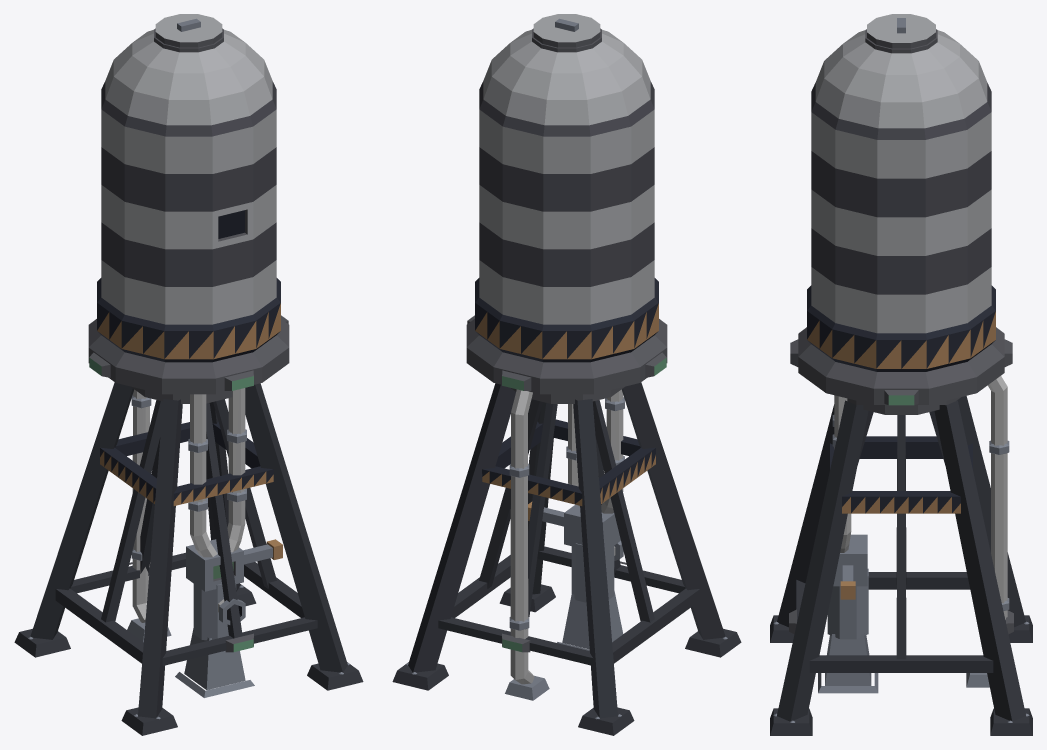
The model's file is fuel-depot-e57cdc.glb.
3 renders of one model, left to right at view 1: azimuth 30°, elevation 25°; view 2: azimuth 150°, elevation 25°; view 3: azimuth 270°, elevation 25°, orthographic. The views are drawn at different scales.
Parts seen in each view (by area): view 1: depot-body, hatch-lid, lever-arm; view 2: depot-body, hatch-lid; view 3: depot-body, hatch-lid, lever-arm.
Part boxes in pixels (bbox=[...]): depot-body: bbox=[14, 28, 363, 735]; hatch-lid: bbox=[155, 14, 222, 47]; lever-arm: bbox=[243, 539, 282, 564]; depot-body: bbox=[392, 28, 741, 735]; hatch-lid: bbox=[533, 14, 600, 47]; depot-body: bbox=[770, 29, 1032, 735]; hatch-lid: bbox=[867, 14, 935, 48]; lever-arm: bbox=[840, 565, 855, 599].
Bounding box in the file's own units: 2.95 × 8.16 × 2.95.
